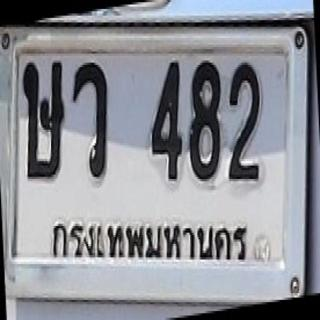A37: (69, 58, 118, 184)
A39: (21, 61, 68, 182)
N02: (226, 57, 266, 189)
N04: (145, 55, 188, 189)
N08: (187, 56, 223, 187)
P04: (45, 215, 252, 266)
